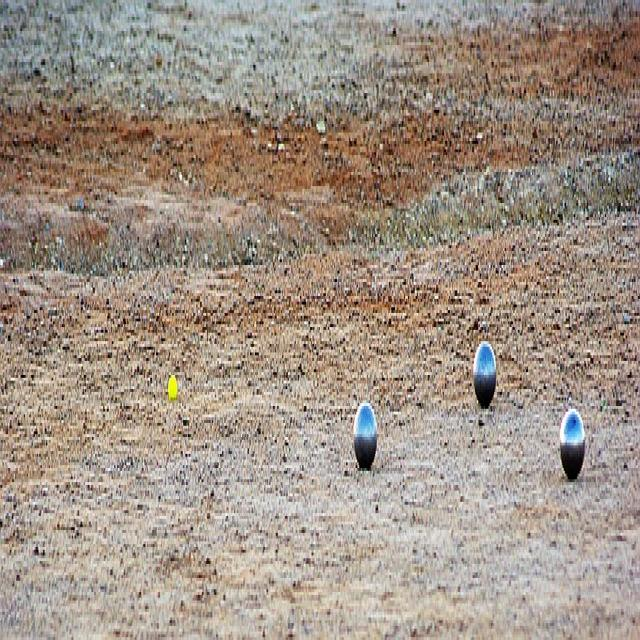hatball: (164, 370, 181, 406)
petanque: (553, 401, 589, 490), (351, 391, 384, 477), (470, 336, 502, 418)
